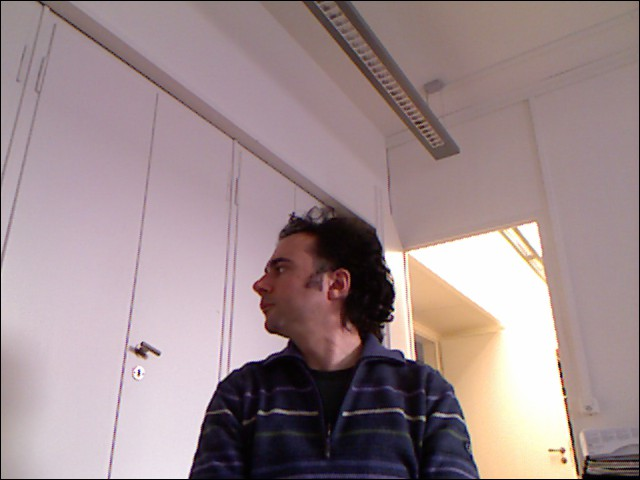deflection: (205, 219, 455, 458)
